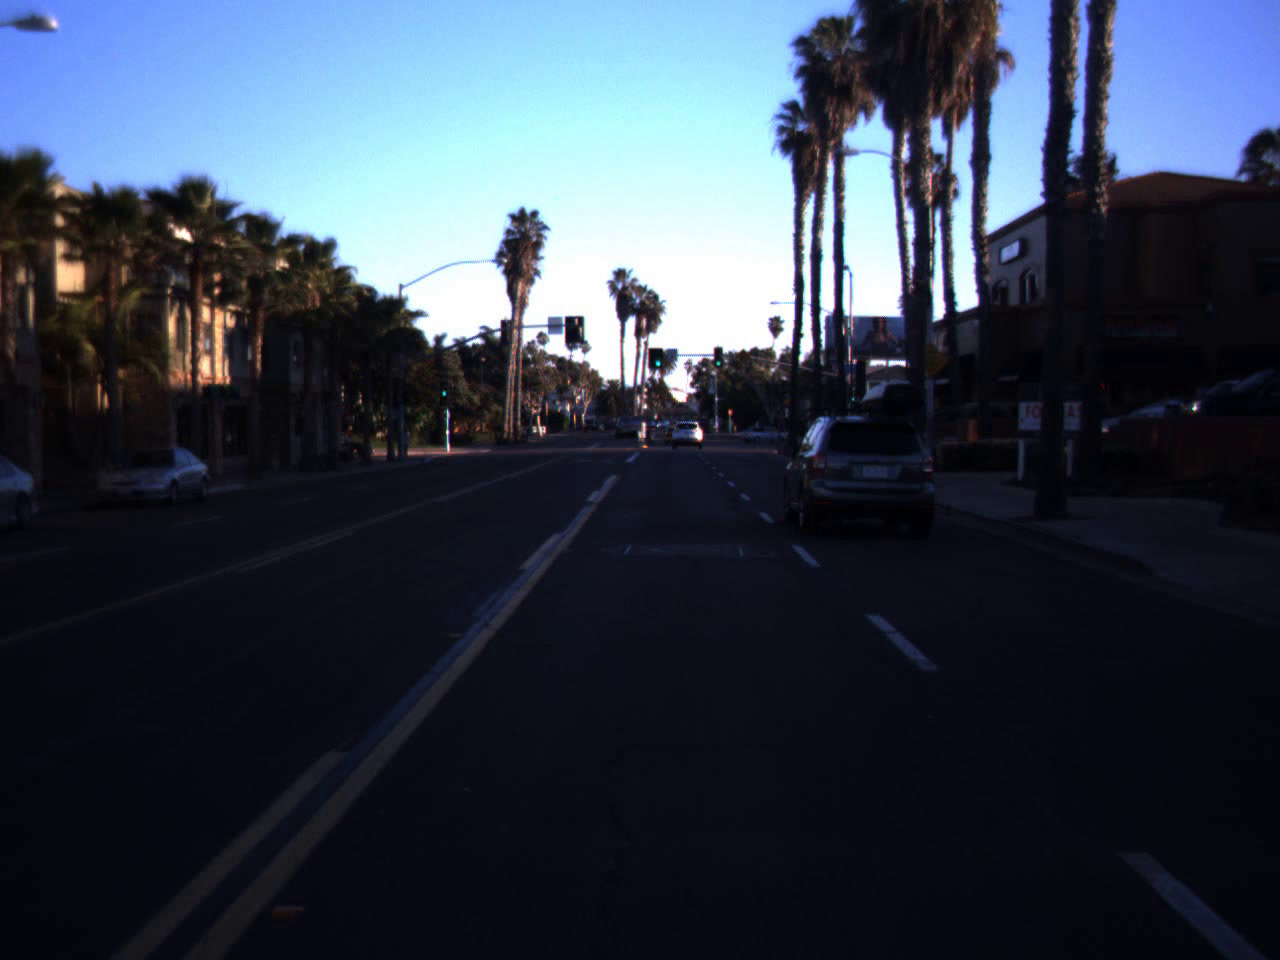go: (843, 366, 864, 401), (438, 377, 450, 397), (652, 348, 664, 368)
